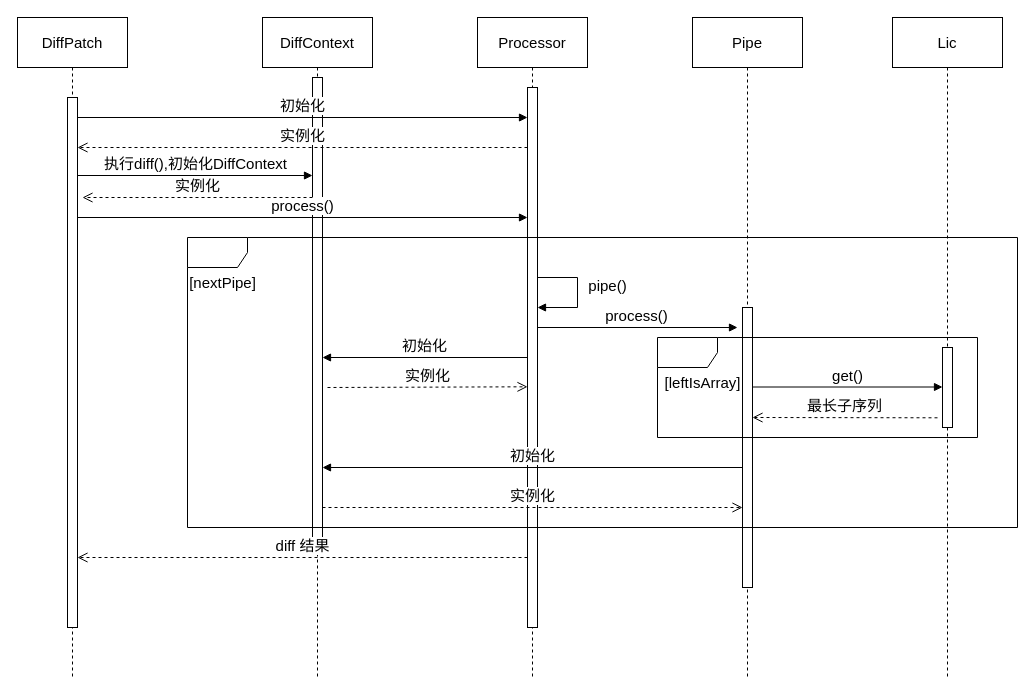
This 1035x696 diagram has some shape labels left out. Each missing label, with the box of its shape:
Alt: (656, 336, 978, 438)
loop: (186, 236, 1018, 528)
